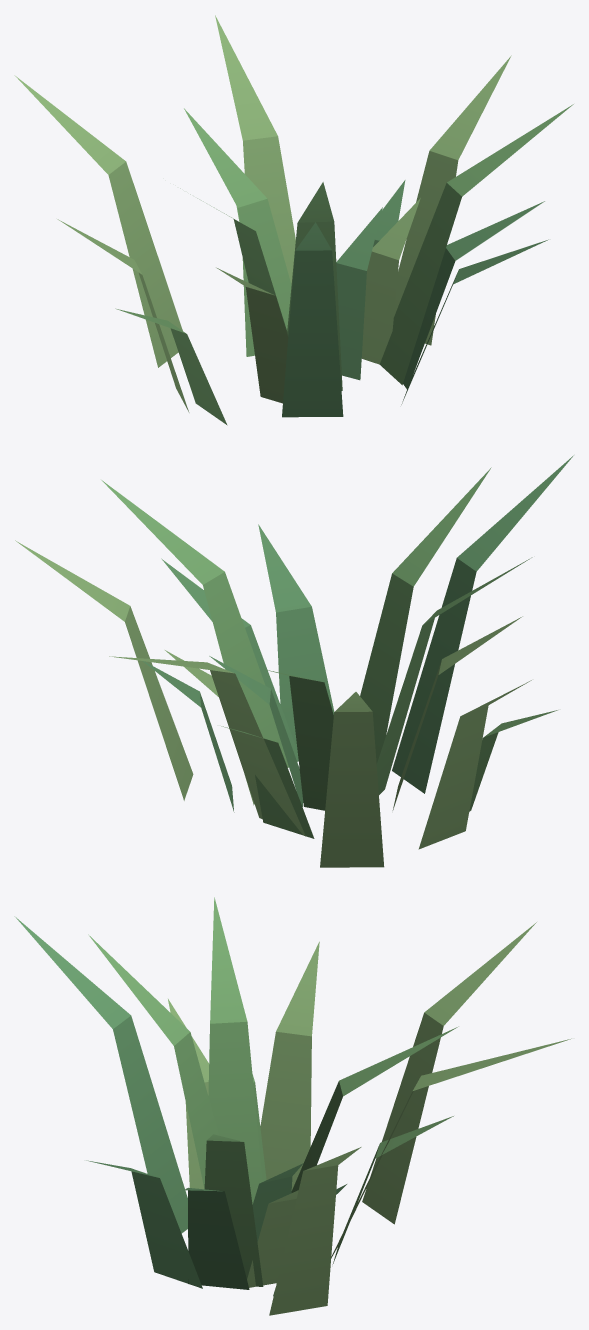
File: gras_1.glb
3 renders of one model, top to bottom at view 1: azimuth 30°, elevation 25°; view 2: azimuth 150°, elevation 25°; view 3: azimuth 270°, elevation 25°, orthographic. The views are drawn at different scales.
Visible parts, largest first — view 1: G_gras_1; view 2: G_gras_1; view 3: G_gras_1.
Boxes of the visible parts, box(x1,y1,x2,y2) form: G_gras_1: box(14, 15, 573, 425); G_gras_1: box(15, 455, 573, 867); G_gras_1: box(14, 897, 571, 1315).
Bounding box in the file's own units: 0.8956 × 0.4975 × 0.8911.
